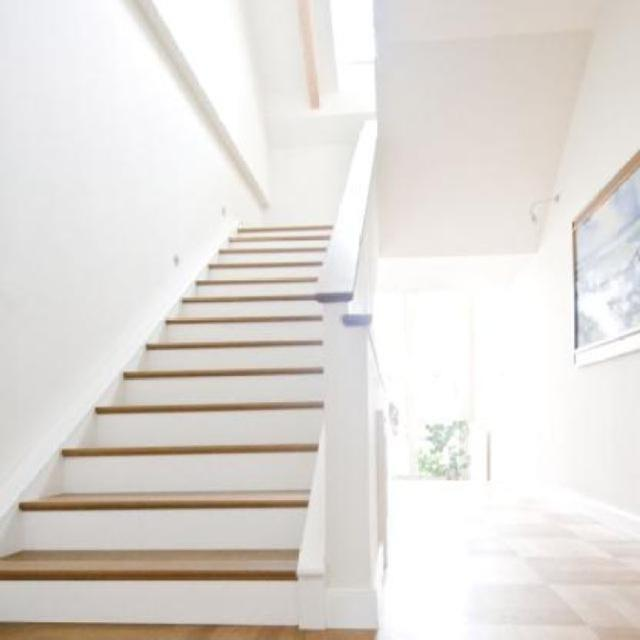stair: (6, 143, 397, 635)
